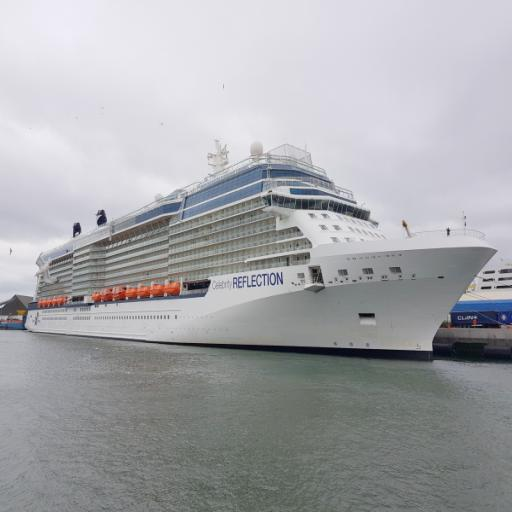cruises: (23, 135, 501, 370)
